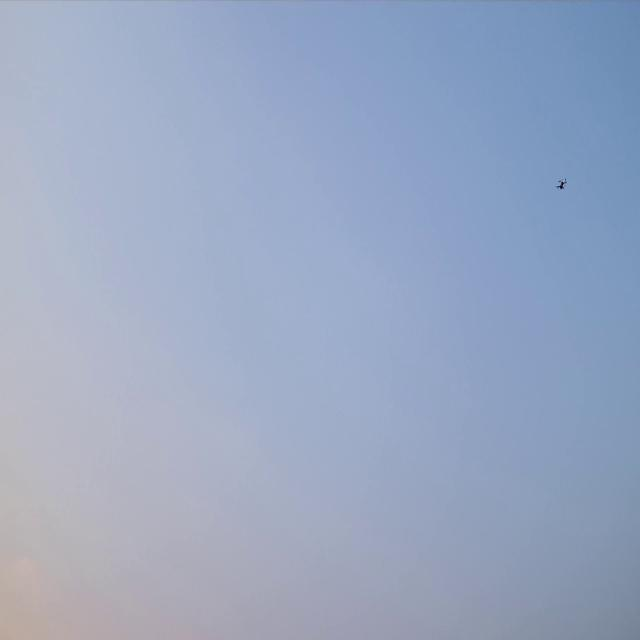UAV: (557, 179, 566, 189)
